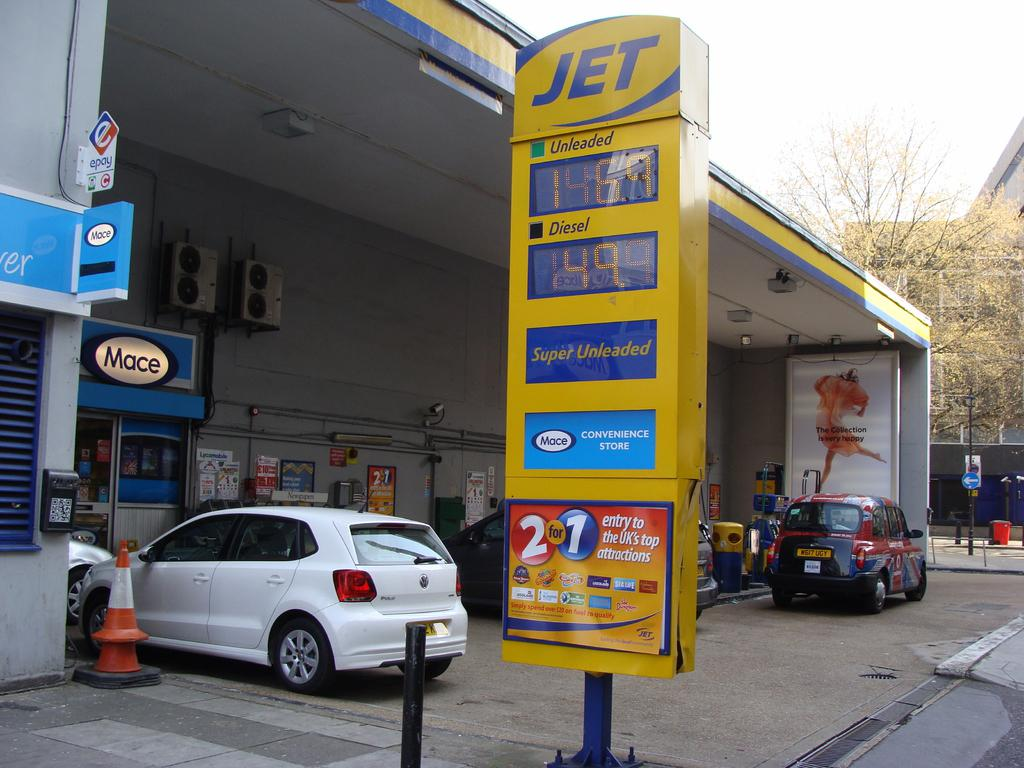taxi: (79, 510, 465, 695), (764, 493, 929, 613)
